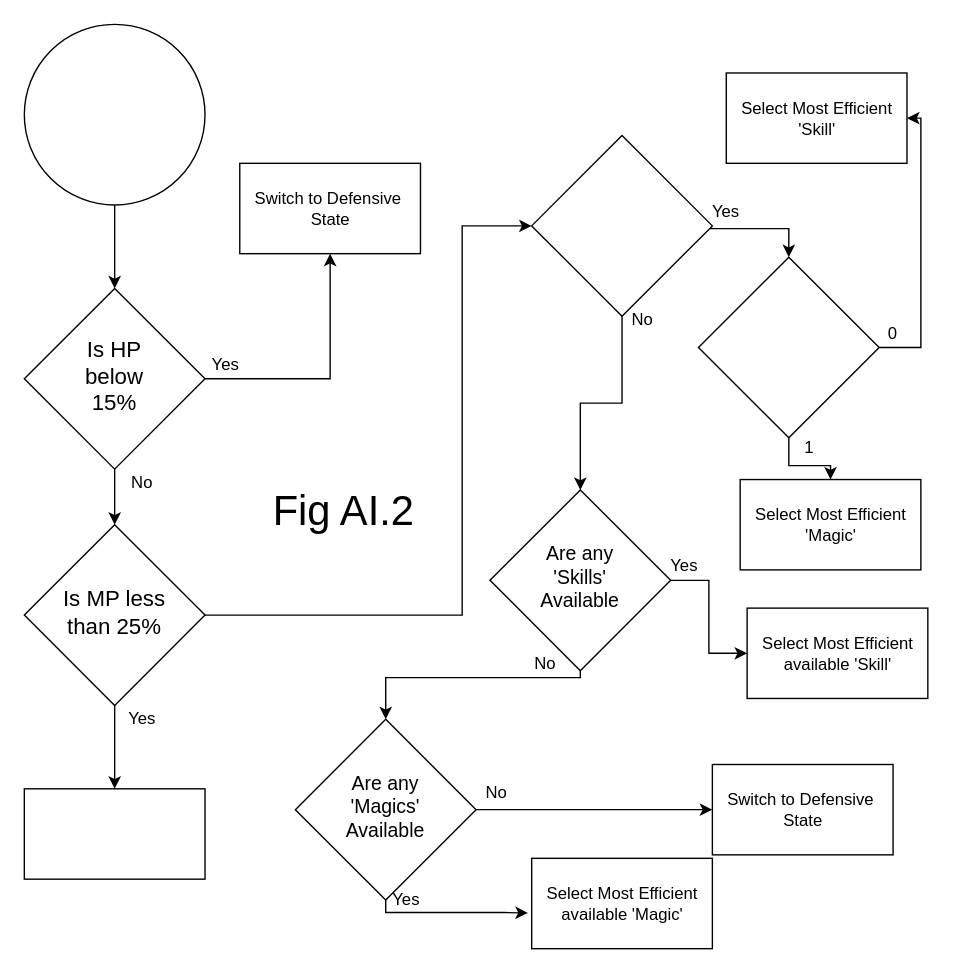
This 956x973 diagram has some shape labels left out. The box of each missing label's shape, as (x1, y1, x2, y2) in pixels:
Are both 'Magic' and 'Skill' Available: (530, 134, 712, 316)
Randomly choose between 0 and 1: (697, 256, 879, 438)
Start Balanced Decision: (23, 23, 205, 205)
Use an Available MP Restore Skill: (23, 787, 205, 879)
